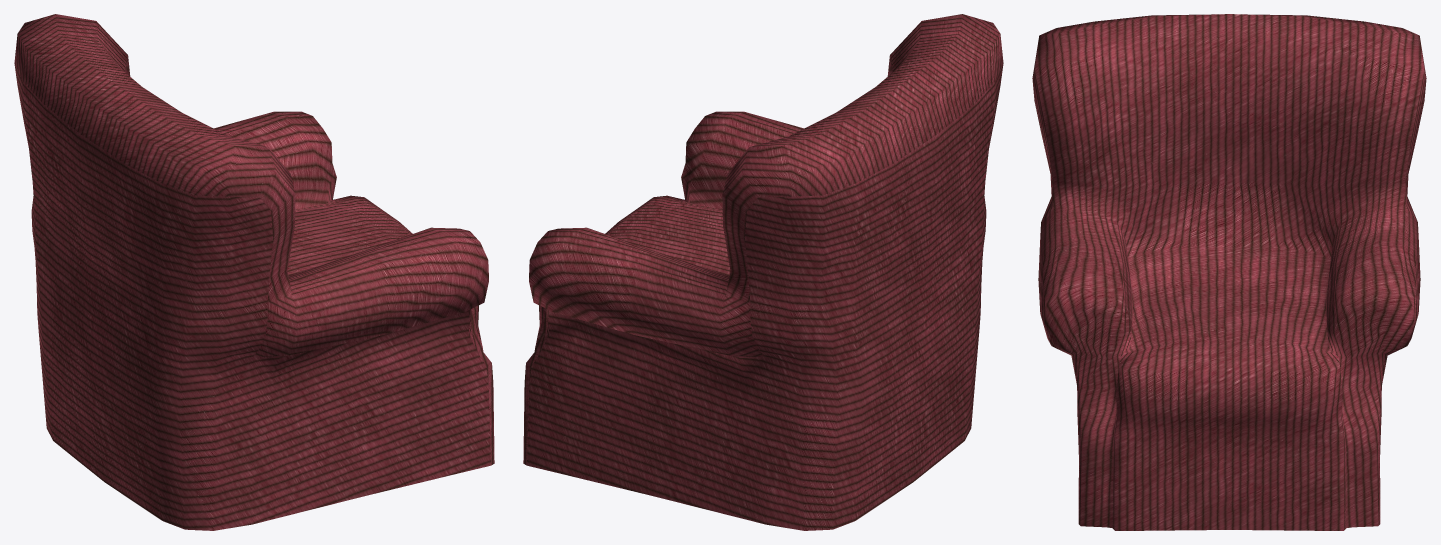
Rendered from armchair.fbx.
3 renders of one model, left to right at view 1: azimuth 30°, elevation 25°; view 2: azimuth 150°, elevation 25°; view 3: azimuth 270°, elevation 25°, orthographic. The views are drawn at different scales.
Visible parts, largest first — view 1: Armchair; view 2: Armchair; view 3: Armchair.
Part boxes in pixels (bbox=[...]): Armchair: bbox=[14, 14, 494, 530]; Armchair: bbox=[523, 14, 1003, 530]; Armchair: bbox=[1032, 14, 1426, 530].
Size of the model in its own units: 2220 by 2398 by 2294.
1 material, 1 textured.
